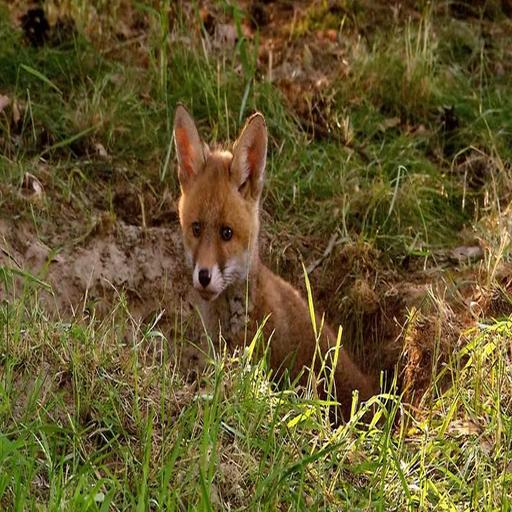Fox: (146, 103, 399, 479)
